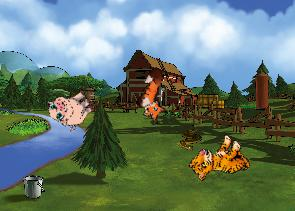fox: (129, 65, 182, 126)
pig: (43, 81, 99, 135)
tiger: (185, 127, 255, 196)
